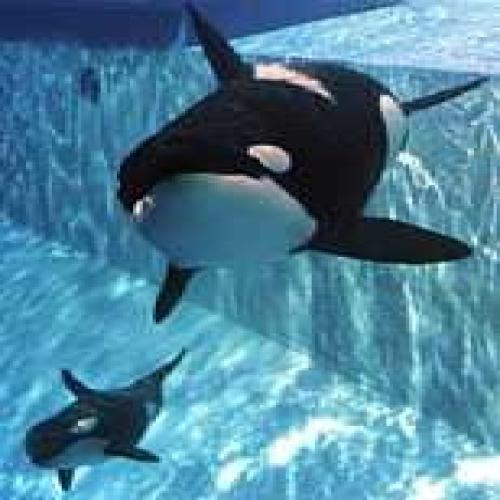killer_whale-endangered: (99, 0, 484, 305), (29, 339, 196, 486)
